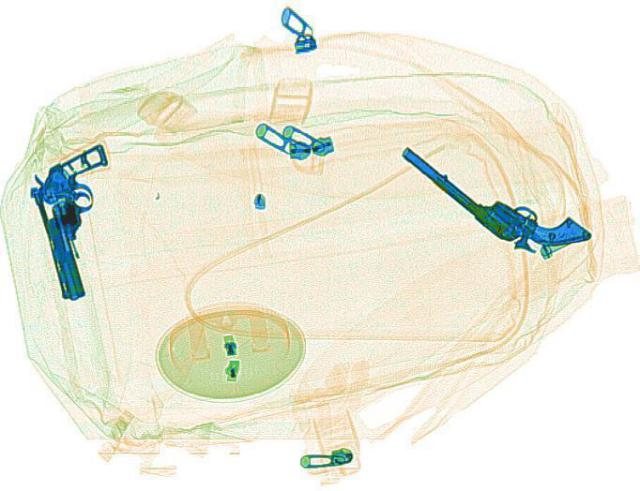Gun: (393, 118, 592, 269), (18, 142, 142, 301)
